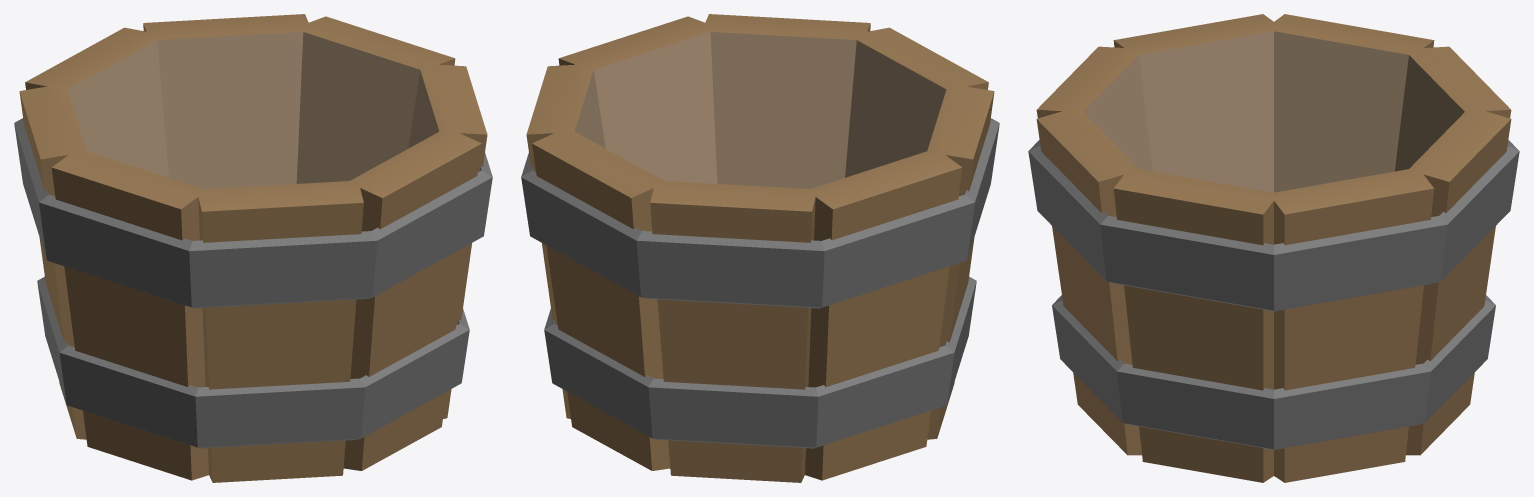
Rendered from Bucket.fbx.
3 views of the same model, side by side, from view 1: azimuth 30°, elevation 25°; view 2: azimuth 150°, elevation 25°; view 3: azimuth 270°, elevation 25° (orthographic).
Parts seen in each view (by area): view 1: farm; view 2: farm; view 3: farm.
Part boxes in pixels (x1=…): farm: x1=14, y1=14, x2=492, y2=482; farm: x1=521, y1=14, x2=999, y2=482; farm: x1=1028, y1=14, x2=1519, y2=482.
Bounding box in the file's own units: 35.68 × 23.45 × 35.68.
